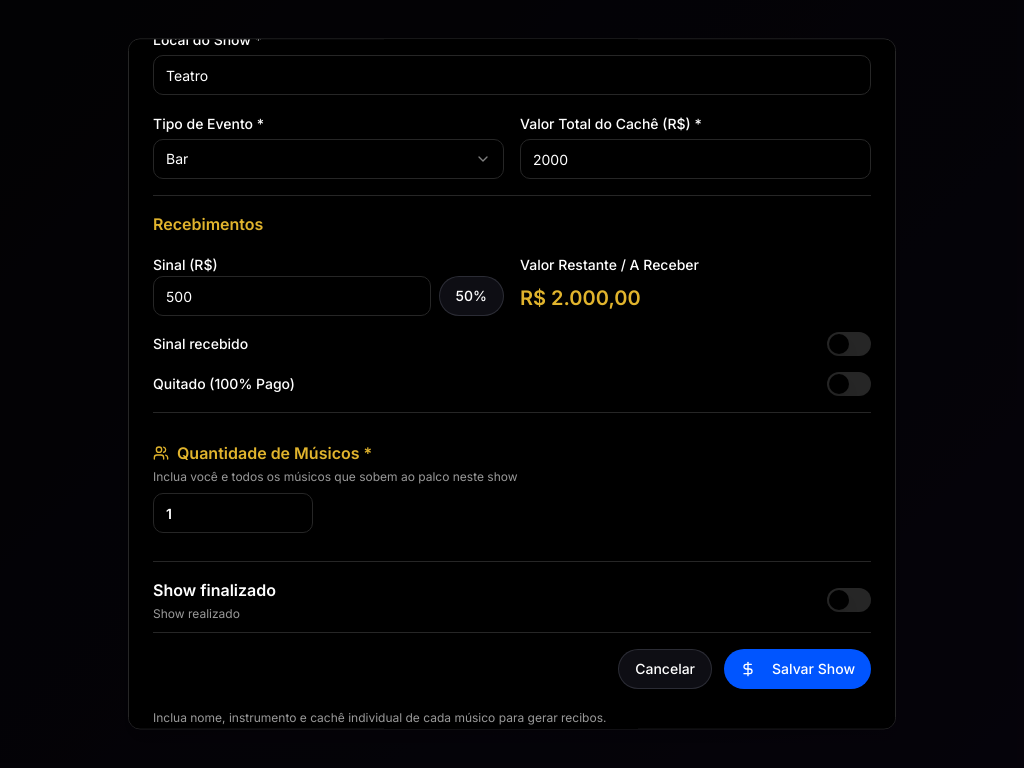
Cadastro completo de shows › só desconta o sinal efetivamente recebido do saldo a receber
This screenshot has width=1024, height=768.
Later steps or results of the test are not shown.
(page scrolled)
Expected: the text "R$ 2.000,00" is shown, top-left (520, 286), bottom-right (641, 310)
Click the switch named "Quitado (100% Pago)" in the row of "Quitado (100% Pago)". click: (849, 384)
box: top-left (827, 372), bottom-right (871, 396)
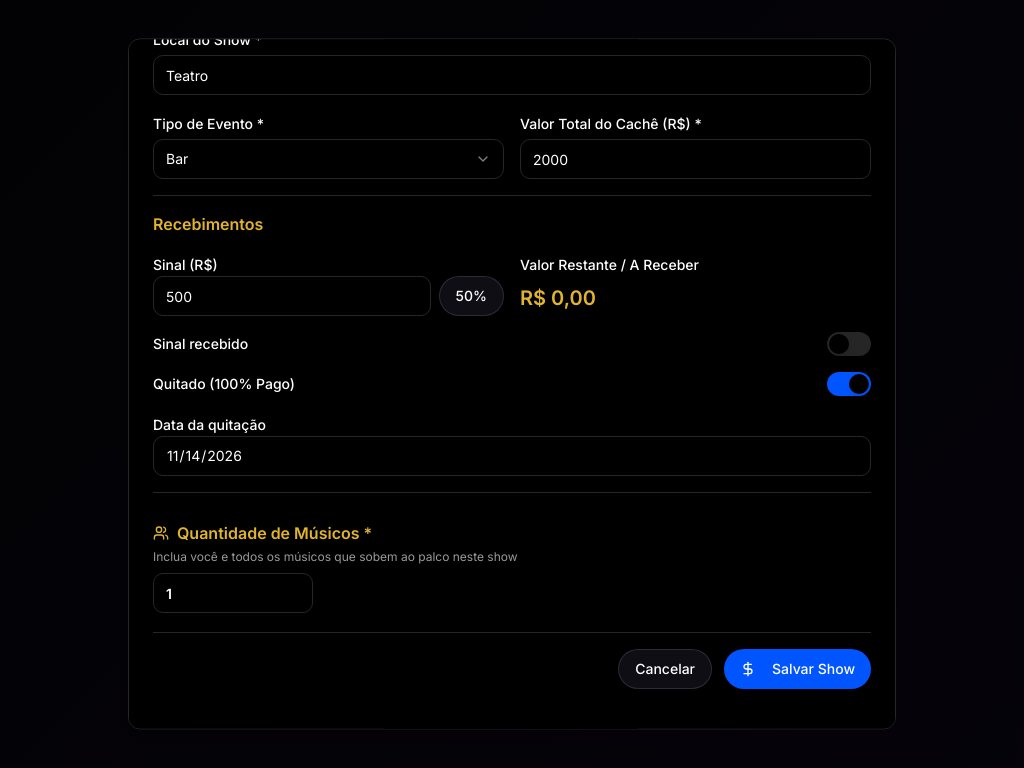
Result: the text "R$ 0,00" is shown at top-left (520, 286), bottom-right (596, 310)
